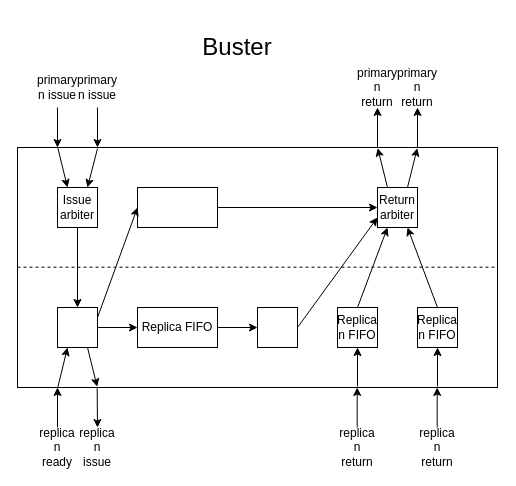
The diagram is 516 pixels wide and 486 high, and some of its shapes have lost their labels. The centre of each missing label's shape, as x and y in pixels:
"Issue" belongs at point 77,327.
"Primary FIFO" belongs at point 177,207.
"Replica buffer" belongs at point 277,327.
